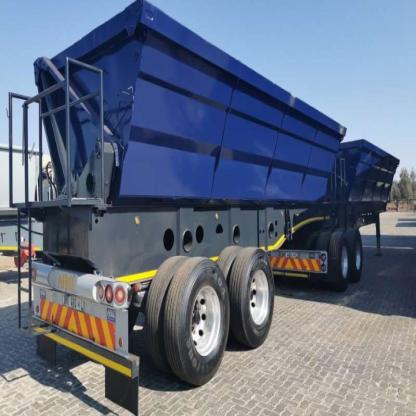dump_truck: (17, 13, 406, 380)
